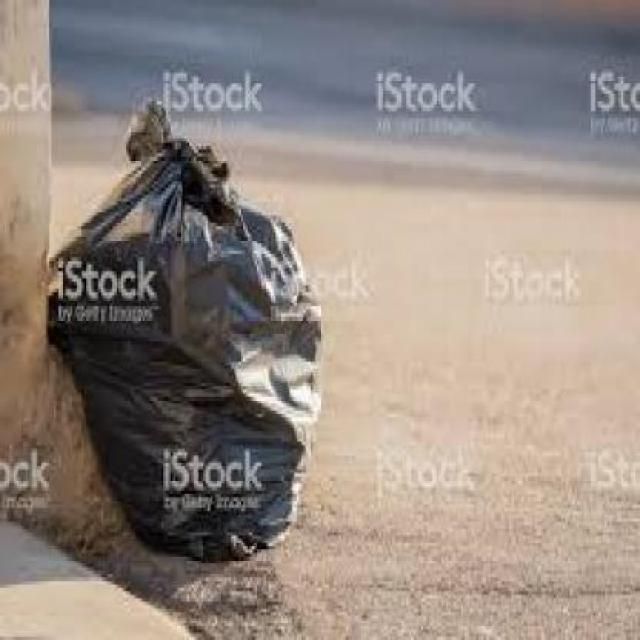garbage: (54, 108, 332, 577)
